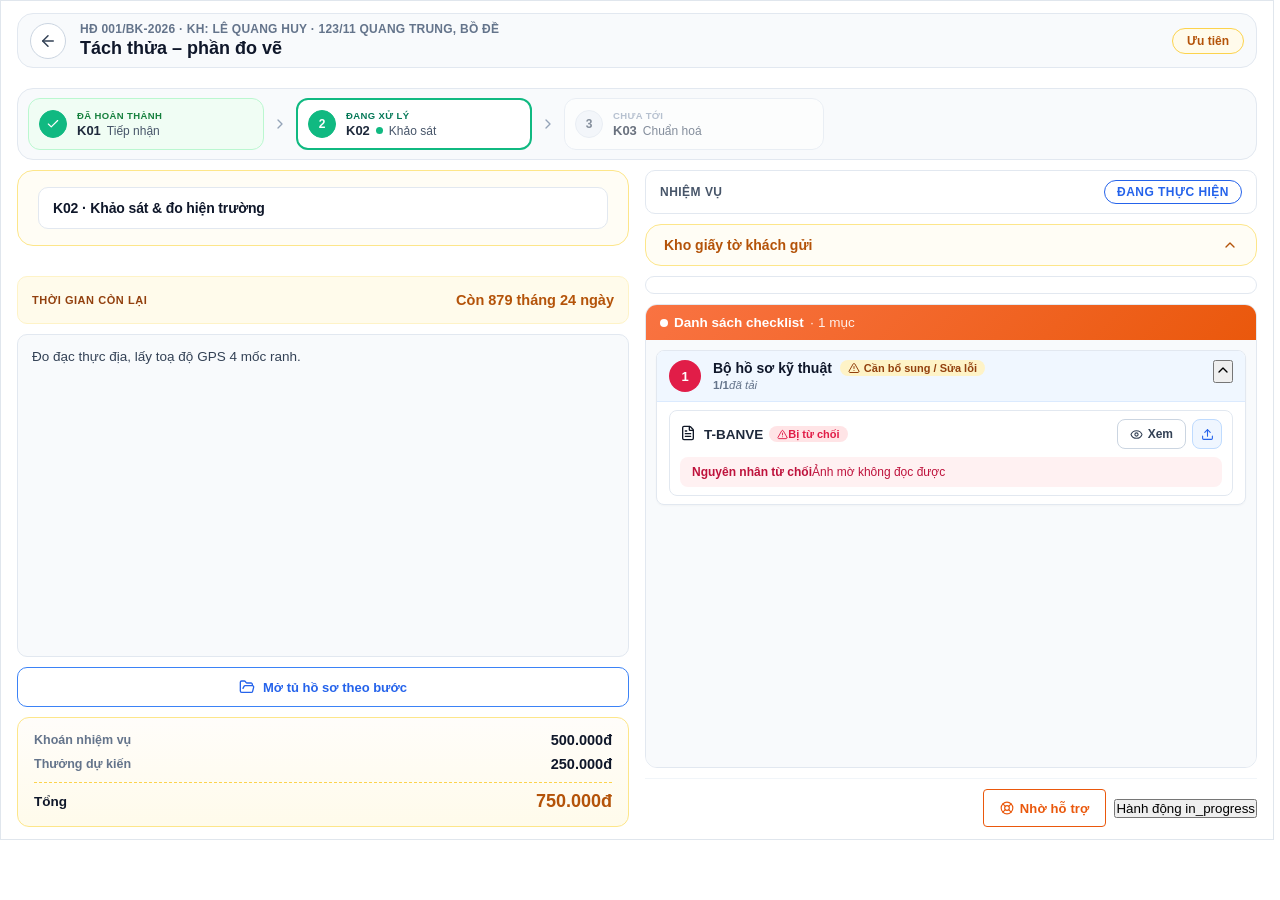
Test case: Mở tệp qua callback thật của cha (openDocument) › lỗi 403 từ openDocument hiện rõ trên màn, không im lặng
Click the button with aria-label "Mở T-BANVE": {"x": 1151, "y": 434} [1117,419,1186,449]
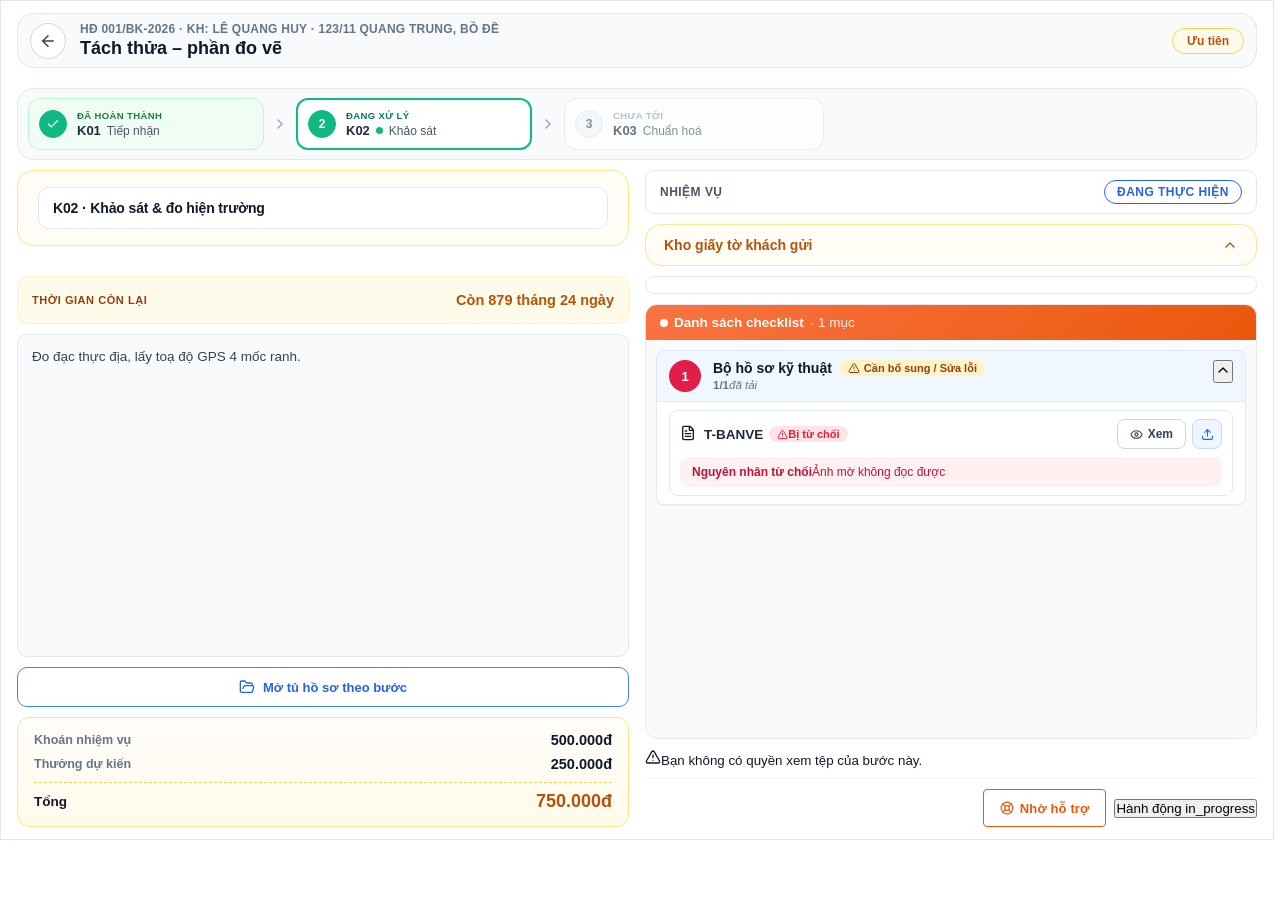
Check: the message shows "không có quyền", box [661,753,922,768]
